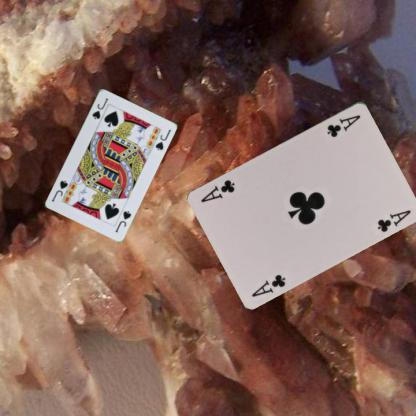Ac: (249, 271, 287, 298), (324, 112, 362, 138)
Js: (90, 96, 110, 121), (112, 208, 132, 233)
